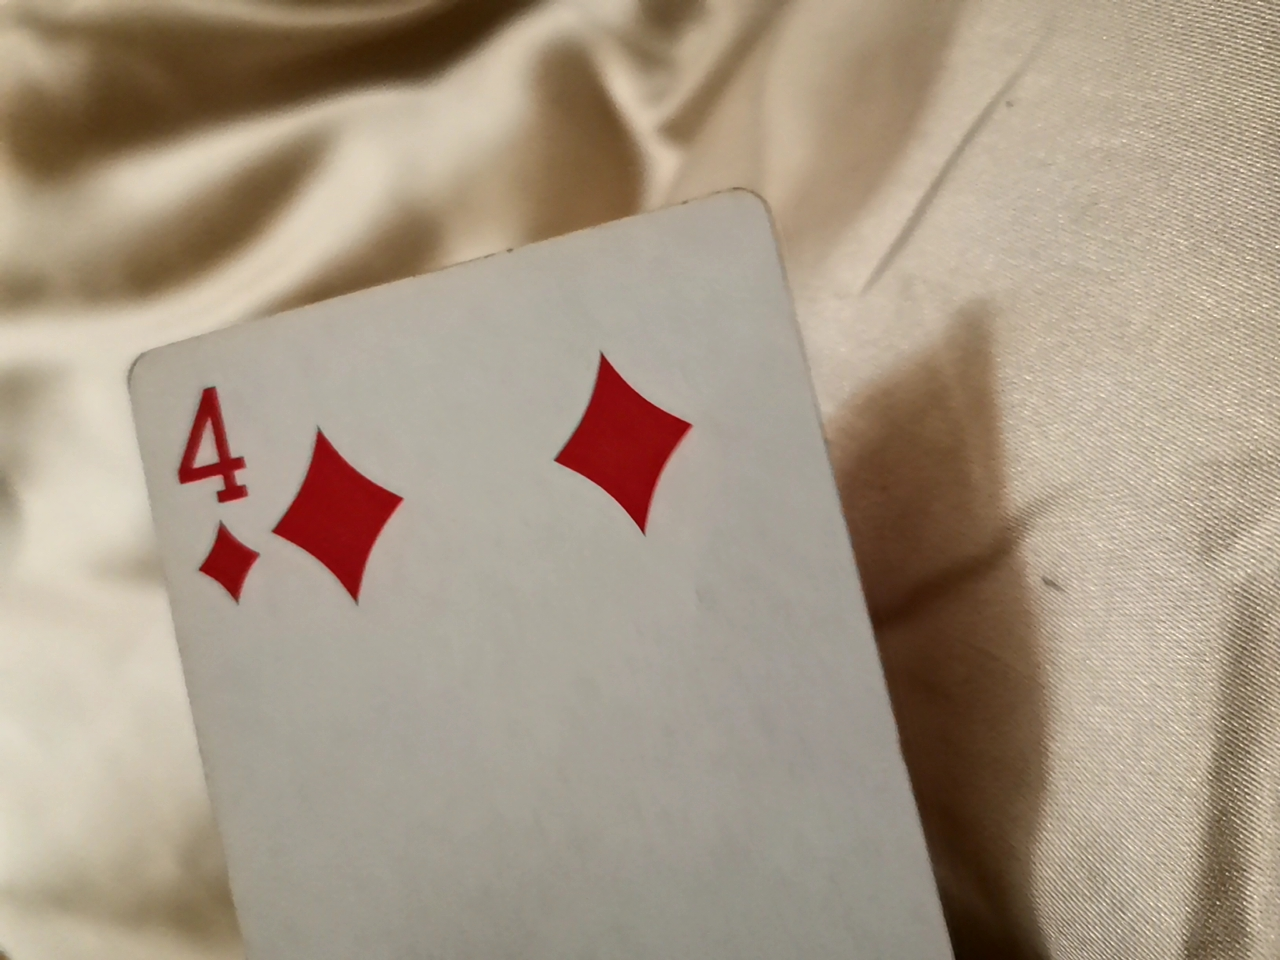fk 4: (163, 170, 1058, 960)
